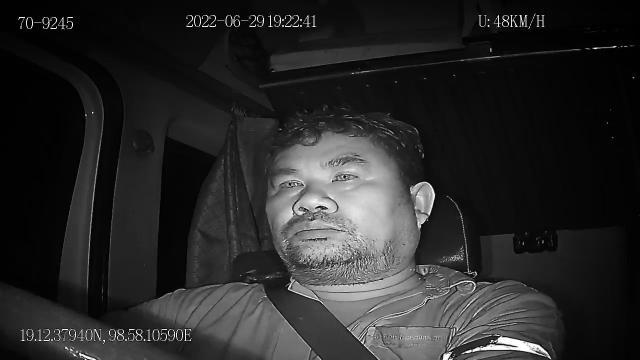SafeDriving: (326, 158, 367, 188), (268, 170, 310, 196)
Seatbelt: (249, 266, 383, 360)
